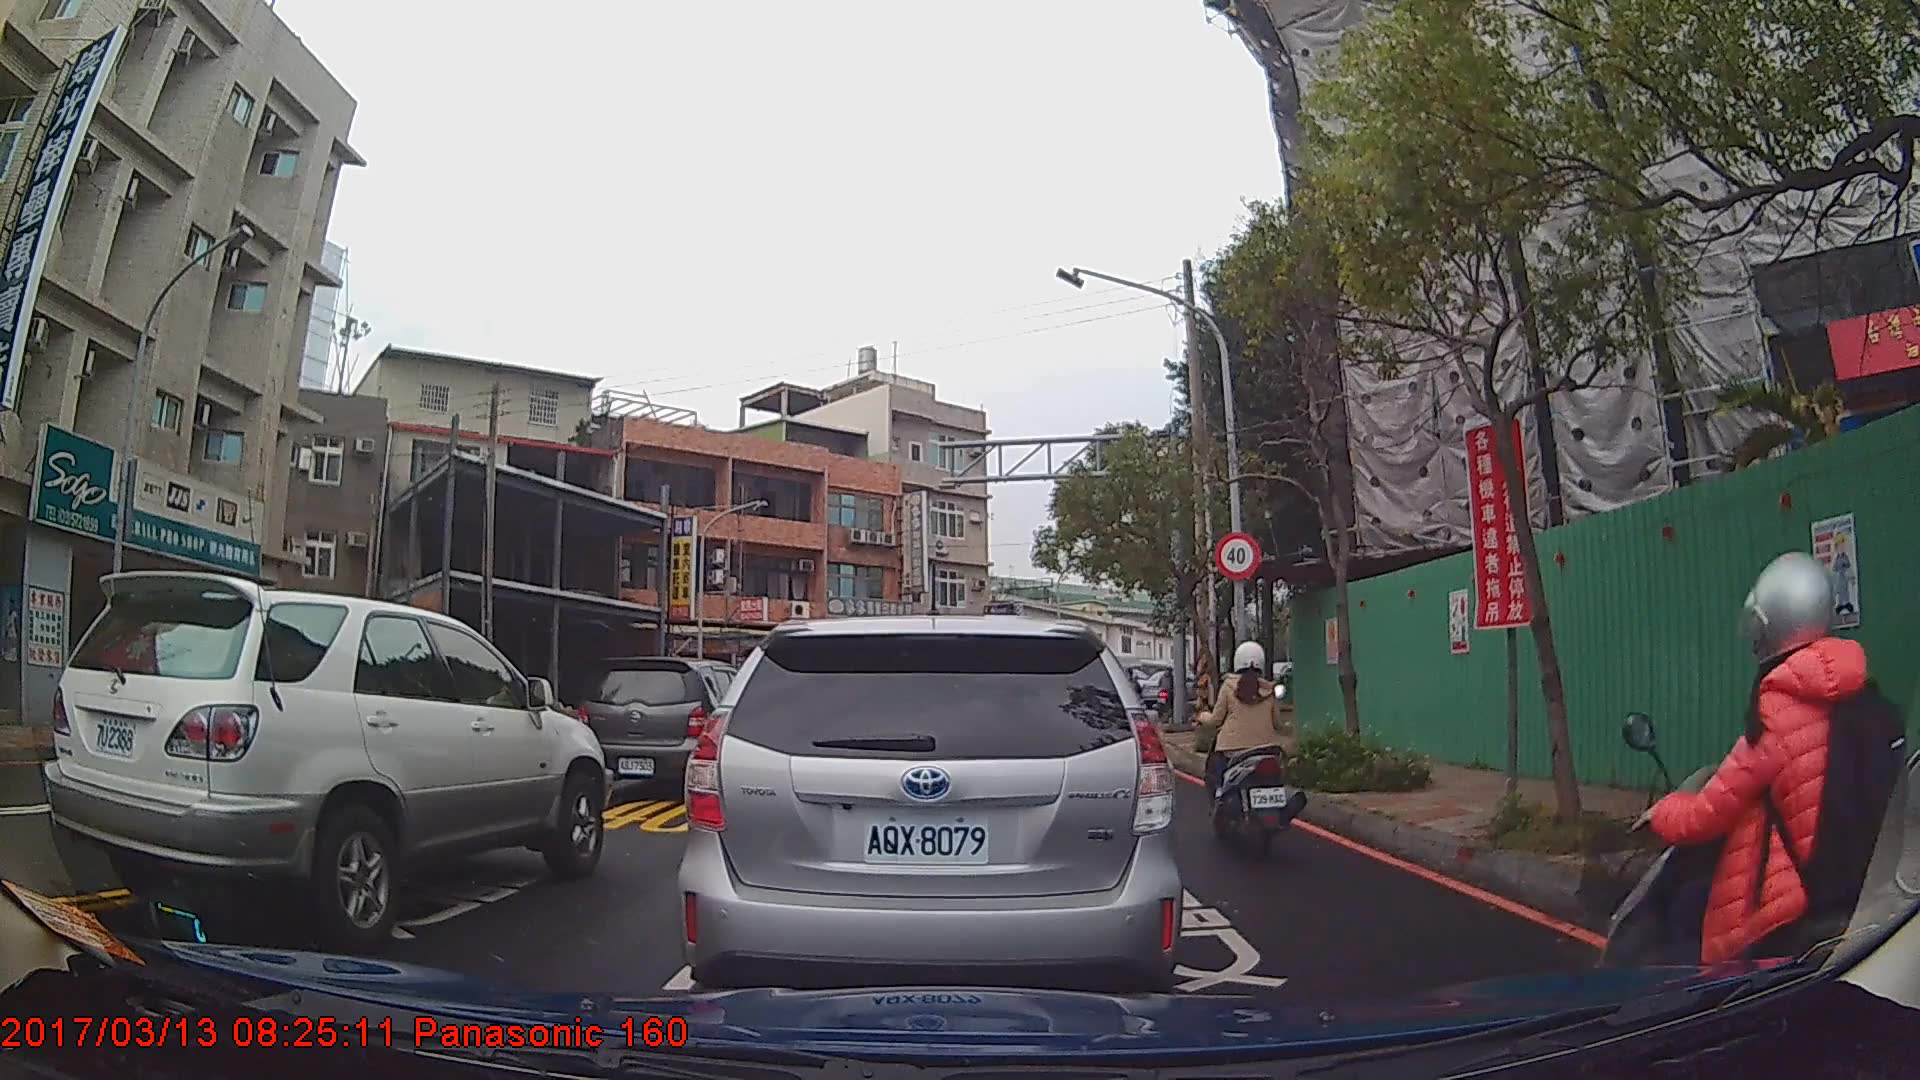rider: (1576, 545, 1920, 1080), (1205, 638, 1308, 861), (1155, 668, 1179, 718)
vehicle: (44, 570, 611, 948), (674, 611, 1184, 1024), (578, 655, 778, 797)
